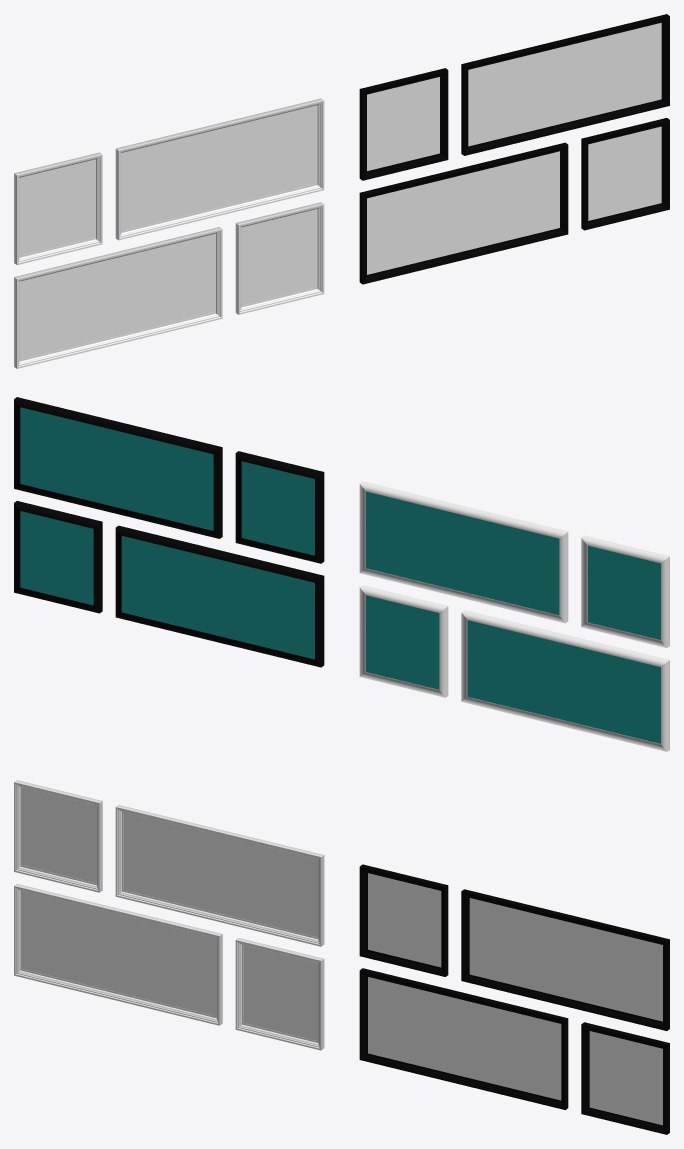
Rendered from _iangkuang2.FBX.
3 views of the same model, one above another, from view 1: azimuth 30°, elevation 25°; view 2: azimuth 150°, elevation 25°; view 3: azimuth 330°, elevation 25° (orthographic).
Visible parts, largest first — view 1: Rectangle101, Rectangle020, Rectangle114, Rectangle022, Rectangle109, Rectangle021, Rectangle119, Rectangle019, Rectangle105, Rectangle002, Rectangle001, Rectangle115 (+4 smaller); view 2: Rectangle111, Rectangle007, Rectangle102, Rectangle008, Rectangle009, Rectangle010, Rectangle106, Rectangle116, Rectangle002, Rectangle105, Rectangle001, Rectangle115 (+4 smaller); view 3: Rectangle022, Rectangle020, Rectangle114, Rectangle101, Rectangle019, Rectangle021, Rectangle109, Rectangle119, Rectangle002, Rectangle105, Rectangle115, Rectangle001 (+4 smaller).
Part boxes in pixels (left/top/right/bottom): Rectangle101: left=122, top=107, right=315, bottom=230; Rectangle020: left=468, top=23, right=661, bottom=146; Rectangle114: left=21, top=236, right=214, bottom=359; Rectangle022: left=367, top=151, right=559, bottom=274; Rectangle109: left=21, top=161, right=94, bottom=255; Rectangle021: left=588, top=126, right=661, bottom=220; Rectangle119: left=242, top=211, right=315, bottom=304; Rectangle019: left=367, top=77, right=439, bottom=170; Rectangle105: left=115, top=98, right=324, bottom=240; Rectangle002: left=359, top=142, right=568, bottom=284; Rectangle001: left=461, top=14, right=669, bottom=155; Rectangle115: left=14, top=227, right=222, bottom=368; Rectangle111: left=467, top=620, right=660, bottom=743; Rectangle007: left=121, top=536, right=314, bottom=659; Rectangle102: left=366, top=491, right=559, bottom=615; Rectangle008: left=20, top=407, right=213, bottom=530; Rectangle009: left=241, top=461, right=314, bottom=555; Rectangle010: left=20, top=511, right=93, bottom=605; Rectangle106: left=587, top=545, right=660, bottom=639; Rectangle116: left=366, top=595, right=439, bottom=689; Rectangle002: left=115, top=525, right=324, bottom=667; Rectangle105: left=359, top=481, right=568, bottom=623; Rectangle001: left=14, top=397, right=222, bottom=538; Rectangle115: left=461, top=610, right=669, bottom=751; Rectangle022: left=368, top=977, right=561, bottom=1100; Rectangle020: left=469, top=898, right=662, bottom=1021; Rectangle114: left=22, top=892, right=215, bottom=1016; Rectangle101: left=124, top=813, right=316, bottom=936; Rectangle019: left=368, top=873, right=441, bottom=967; Rectangle021: left=589, top=1031, right=662, bottom=1125; Rectangle109: left=22, top=789, right=95, bottom=882; Rectangle119: left=244, top=946, right=316, bottom=1040; Rectangle002: left=359, top=968, right=568, bottom=1109; Rectangle105: left=115, top=805, right=324, bottom=946; Rectangle115: left=14, top=884, right=222, bottom=1025; Rectangle001: left=461, top=889, right=669, bottom=1030.
Bounding box in the file's own units: 150 × 42.46 × 1.18.
